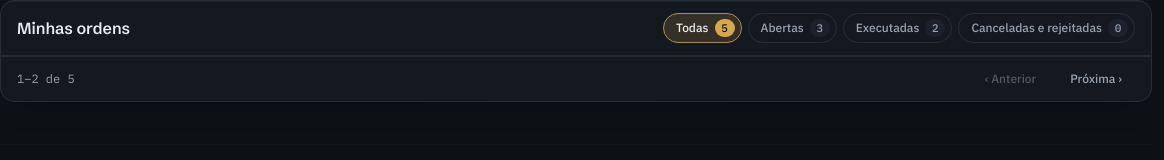
it: Orders table pagination › Should go back to the first page when the filter changes
Click the button with aria-label "Próxima página" at (1096, 79), box x1=1057 y1=63 x2=1135 y2=95
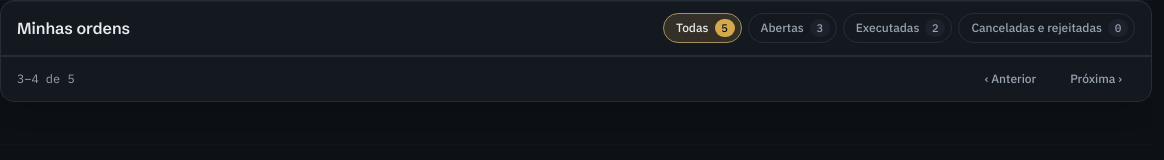
Expected: the text with class "orders-range" reads "3–4 de 5", x1=17 y1=71 x2=75 y2=86
Click the button "Abertas 3" at (792, 28), box x1=748 y1=13 x2=837 y2=43
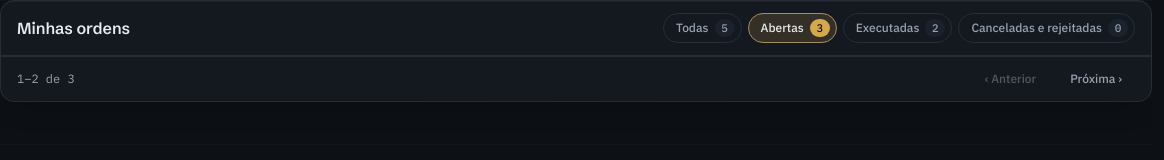
Expected: the text with class "orders-range" reads "1–2 de 3", x1=17 y1=71 x2=75 y2=86
